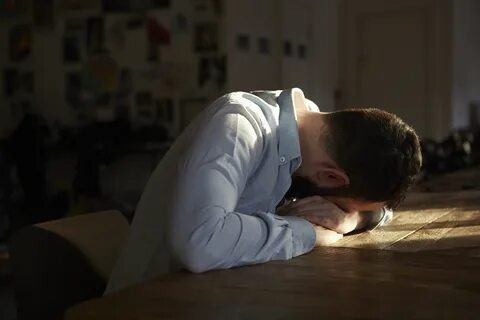sleep: (139, 85, 424, 273)
